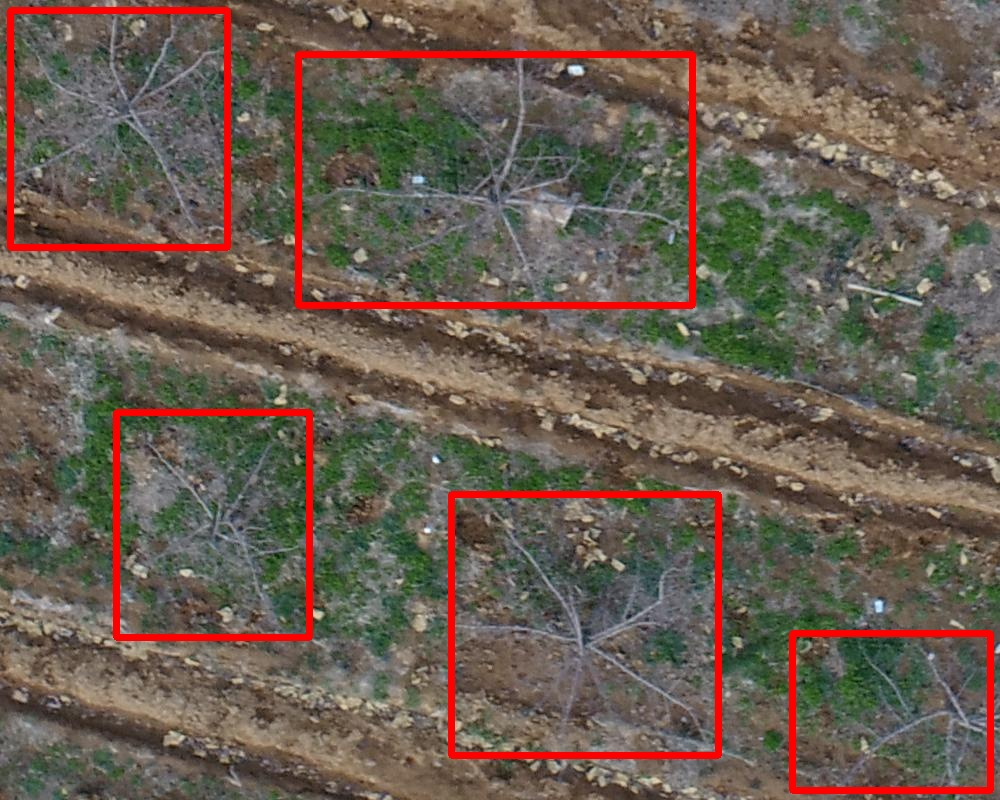apple: (298, 54, 692, 305), (451, 494, 718, 755), (10, 10, 227, 247), (116, 412, 309, 637), (792, 633, 990, 790)
